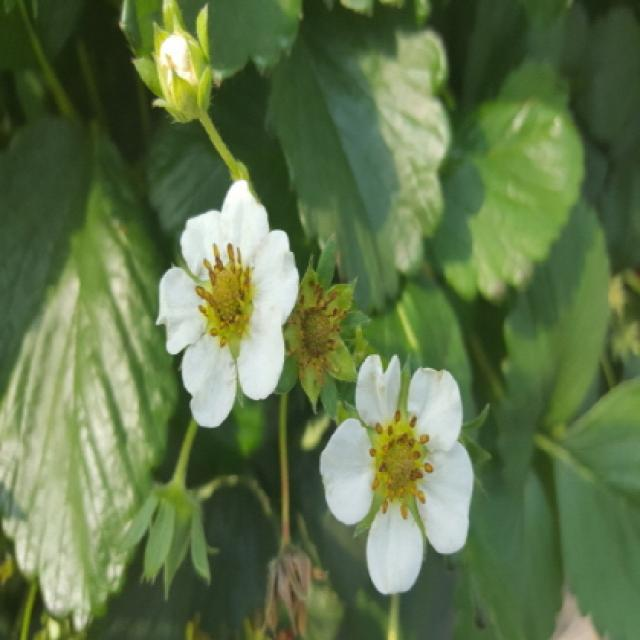Blossom Blight: (362, 404, 438, 524), (189, 236, 257, 355), (284, 280, 355, 373)
